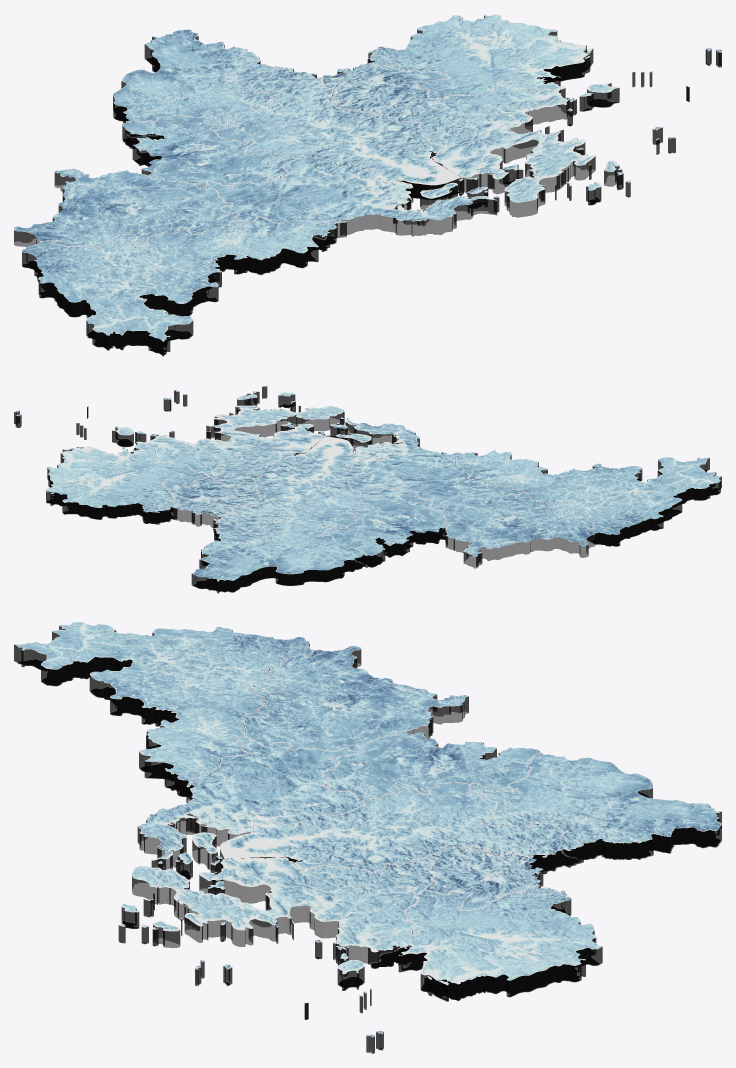
The model's file is ning_de.glb.
The picture shows the model from 3 angles, top to bottom: view 1: azimuth 30°, elevation 25°; view 2: azimuth 150°, elevation 25°; view 3: azimuth 270°, elevation 25°; orthographic projection. The views are drawn at different scales.
Parts seen in each view (by area): view 1: 古田县, 福安市, 霞浦县, 福鼎市, 屏南县, 蕉城区, 寿宁县, 周宁县, 古田县中间, 霞浦县中间, 古田县底部, 柘荣县 (+6 smaller); view 2: 古田县, 福安市, 霞浦县, 福鼎市, 屏南县, 蕉城区, 寿宁县, 周宁县, 福鼎市中间, 柘荣县, 霞浦县中间, 寿宁县中间 (+9 smaller); view 3: 古田县, 福安市, 霞浦县, 福鼎市, 屏南县, 蕉城区, 寿宁县, 周宁县, 霞浦县中间, 福鼎市中间, 柘荣县, 古田县中间 (+7 smaller).
Part boxes in pixels (box(x1,y1,x2,y2)): 古田县: box(22, 216, 337, 341); 福安市: box(215, 67, 463, 185); 霞浦县: box(369, 81, 689, 202); 福鼎市: box(368, 14, 721, 99); 屏南县: box(14, 168, 238, 247); 蕉城区: box(203, 155, 498, 227); 寿宁县: box(113, 29, 285, 130); 周宁县: box(122, 113, 293, 187); 古田县中间: box(22, 223, 336, 356); 霞浦县中间: box(379, 82, 689, 217); 古田县底部: box(22, 235, 336, 356); 柘荣县: box(317, 62, 450, 112); 古田县: box(445, 450, 721, 534); 福安市: box(213, 435, 373, 533); 霞浦县: box(87, 385, 344, 488); 福鼎市: box(14, 410, 208, 512); 屏南县: box(438, 484, 595, 556); 蕉城区: box(319, 417, 496, 508); 寿宁县: box(192, 515, 365, 581); 周宁县: box(321, 487, 446, 555); 福鼎市中间: box(14, 411, 196, 524); 柘荣县: box(161, 477, 260, 517); 霞浦县中间: box(87, 386, 344, 478); 寿宁县中间: box(191, 528, 365, 593); 古田县: box(14, 622, 313, 782); 福安市: box(220, 783, 580, 873); 霞浦县: box(119, 857, 435, 1003); 福鼎市: box(337, 885, 602, 1037); 屏南县: box(242, 645, 468, 751); 蕉城区: box(138, 736, 364, 865); 寿宁县: box(469, 754, 721, 848); 周宁县: box(322, 731, 541, 801); 霞浦县中间: box(118, 860, 432, 1019); 福鼎市中间: box(337, 887, 602, 1053); 柘荣县: box(424, 847, 543, 910); 古田县中间: box(14, 626, 310, 796).
Size of the model in its own units: 0.8956 by 0.0167 by 0.6454.
11 materials, 10 textured.
